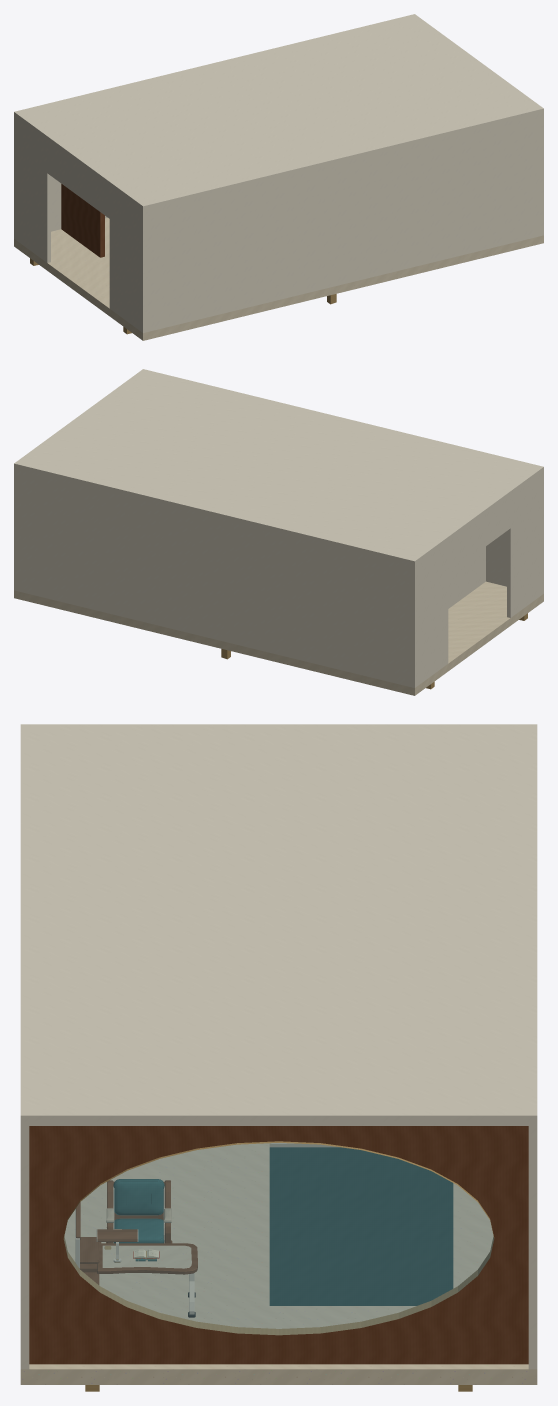
File: StarAtlasSpecialty_443_CanonAdaptation.glb
3 renders of one model, top to bottom at view 1: azimuth 30°, elevation 25°; view 2: azimuth 150°, elevation 25°; view 3: azimuth 270°, elevation 25°, orthographic. The views are drawn at different scales.
Parts seen in each view (by area): view 1: SA443_Ceiling, SA443_SouthSide, SA443_RoomFloor, SA443_EntryShoulderNorth, SA443_EntryShoulderSouth, SA443_EntryHeader, SA443_EntryPrivacyDogleg, SA443_NorthSide; view 2: SA443_Ceiling, SA443_NorthSide, SA443_RoomFloor, SA443_EntryShoulderSouth, SA443_EntryShoulderNorth, SA443_EntryHeader, SA443_WashEntrySide, SA443_SouthSide; view 3: SA443_Ceiling, SA443_OvalAtriumGlass, SA443_OvalWindowReveal, SA443_RoomFloor, SA443_Cocoon_RearLiner, SA443_OvalDepthReturn, SA443_NorthSide, SA443_SouthSide, SA443_DayReadingChair__DAY_CHAIR_single_reclined_back_cushio, SA443_LibraryStudyEdge__SINGLE_inset_stone_writing_surface, SA443_LibraryStudyEdge__SINGLE_carved_walnut_writing_edge, SA443_DayReadingChair__DAY_CHAIR_single_crowned_seat (+1 smaller).
Part boxes in pixels (x1,y1,x2,y2): SA443_Ceiling: (14, 14, 543, 211); SA443_SouthSide: (141, 114, 543, 332); SA443_RoomFloor: (14, 218, 543, 340); SA443_EntryShoulderNorth: (16, 119, 50, 262); SA443_EntryShoulderSouth: (109, 187, 140, 331); SA443_EntryHeader: (47, 141, 110, 218); SA443_EntryPrivacyDogleg: (61, 184, 104, 257); SA443_NorthSide: (14, 117, 107, 239); SA443_Ceiling: (14, 369, 543, 566); SA443_NorthSide: (14, 469, 416, 687); SA443_RoomFloor: (14, 581, 543, 695); SA443_EntryShoulderSouth: (507, 474, 541, 617); SA443_EntryShoulderNorth: (417, 543, 448, 686); SA443_EntryHeader: (447, 496, 511, 574); SA443_WashEntrySide: (448, 546, 485, 608); SA443_SouthSide: (486, 472, 543, 594); SA443_Ceiling: (20, 724, 537, 1125); SA443_OvalAtriumGlass: (64, 1143, 493, 1334); SA443_OvalWindowReveal: (29, 1126, 528, 1364); SA443_RoomFloor: (20, 1143, 537, 1384); SA443_Cocoon_RearLiner: (274, 1147, 448, 1305); SA443_OvalDepthReturn: (63, 1141, 494, 1335); SA443_NorthSide: (528, 1126, 537, 1369); SA443_SouthSide: (20, 1126, 29, 1369); SA443_DayReadingChair__DAY_CHAIR_single_reclined_back_cushio: (113, 1179, 164, 1214); SA443_LibraryStudyEdge__SINGLE_inset_stone_writing_surface: (102, 1245, 191, 1268); SA443_LibraryStudyEdge__SINGLE_carved_walnut_writing_edge: (97, 1243, 197, 1274); SA443_DayReadingChair__DAY_CHAIR_single_crowned_seat: (114, 1219, 164, 1243).
Bounding box in the file's own units: 12.9 × 4.91 × 7.2.
Materials: 58 (43 with a texture image).
